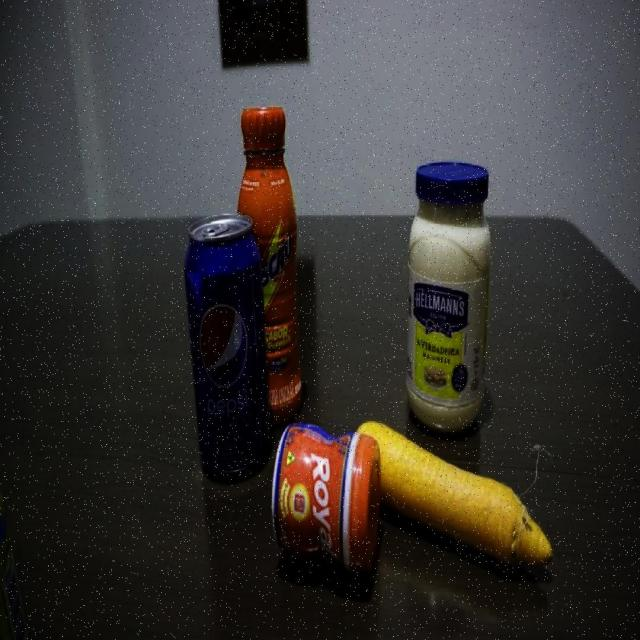Carrot: (364, 412, 559, 576)
ChocolateMilk: (238, 98, 306, 416)
Mayonnaise: (406, 160, 489, 431)
SodaCan: (181, 217, 272, 478)
Yeast: (276, 420, 384, 584)
